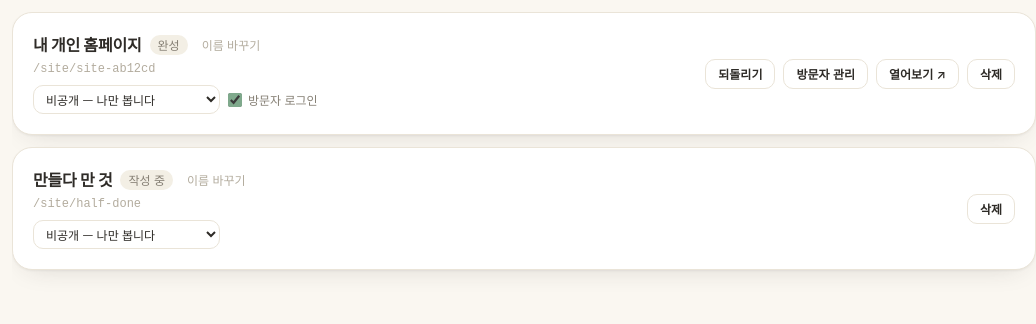
Test case: [P4-4] ProjectList › 삭제가 실패하면 목록에서 지우지 않고 오류를 보여준다
Click the button "삭제" next to "열어보기 ↗" at (991, 74), box 967,58 -> 1015,88
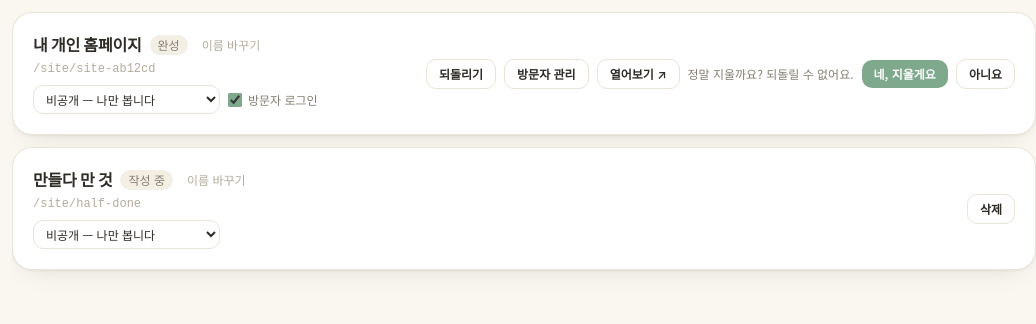
Click the button "네, 지울게요" at (905, 74), box 862,60 -> 948,88
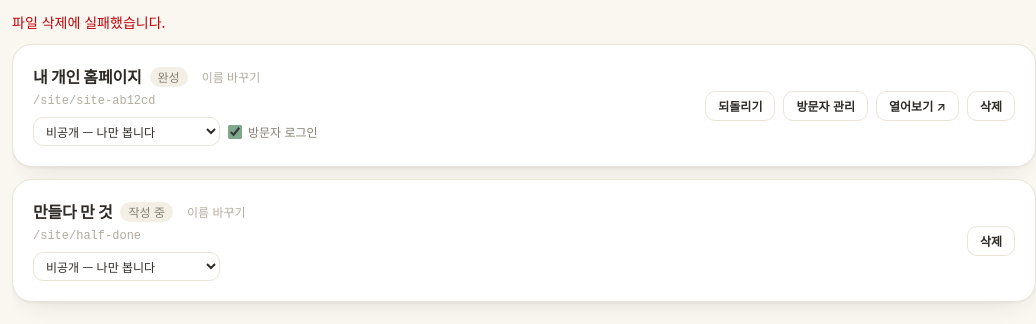
Expected: the heading "내 개인 홈페이지" is shown, 33,65 -> 142,89
Now the text "파일 삭제에 실패했습니다." is shown, box 12,12 -> 165,32
